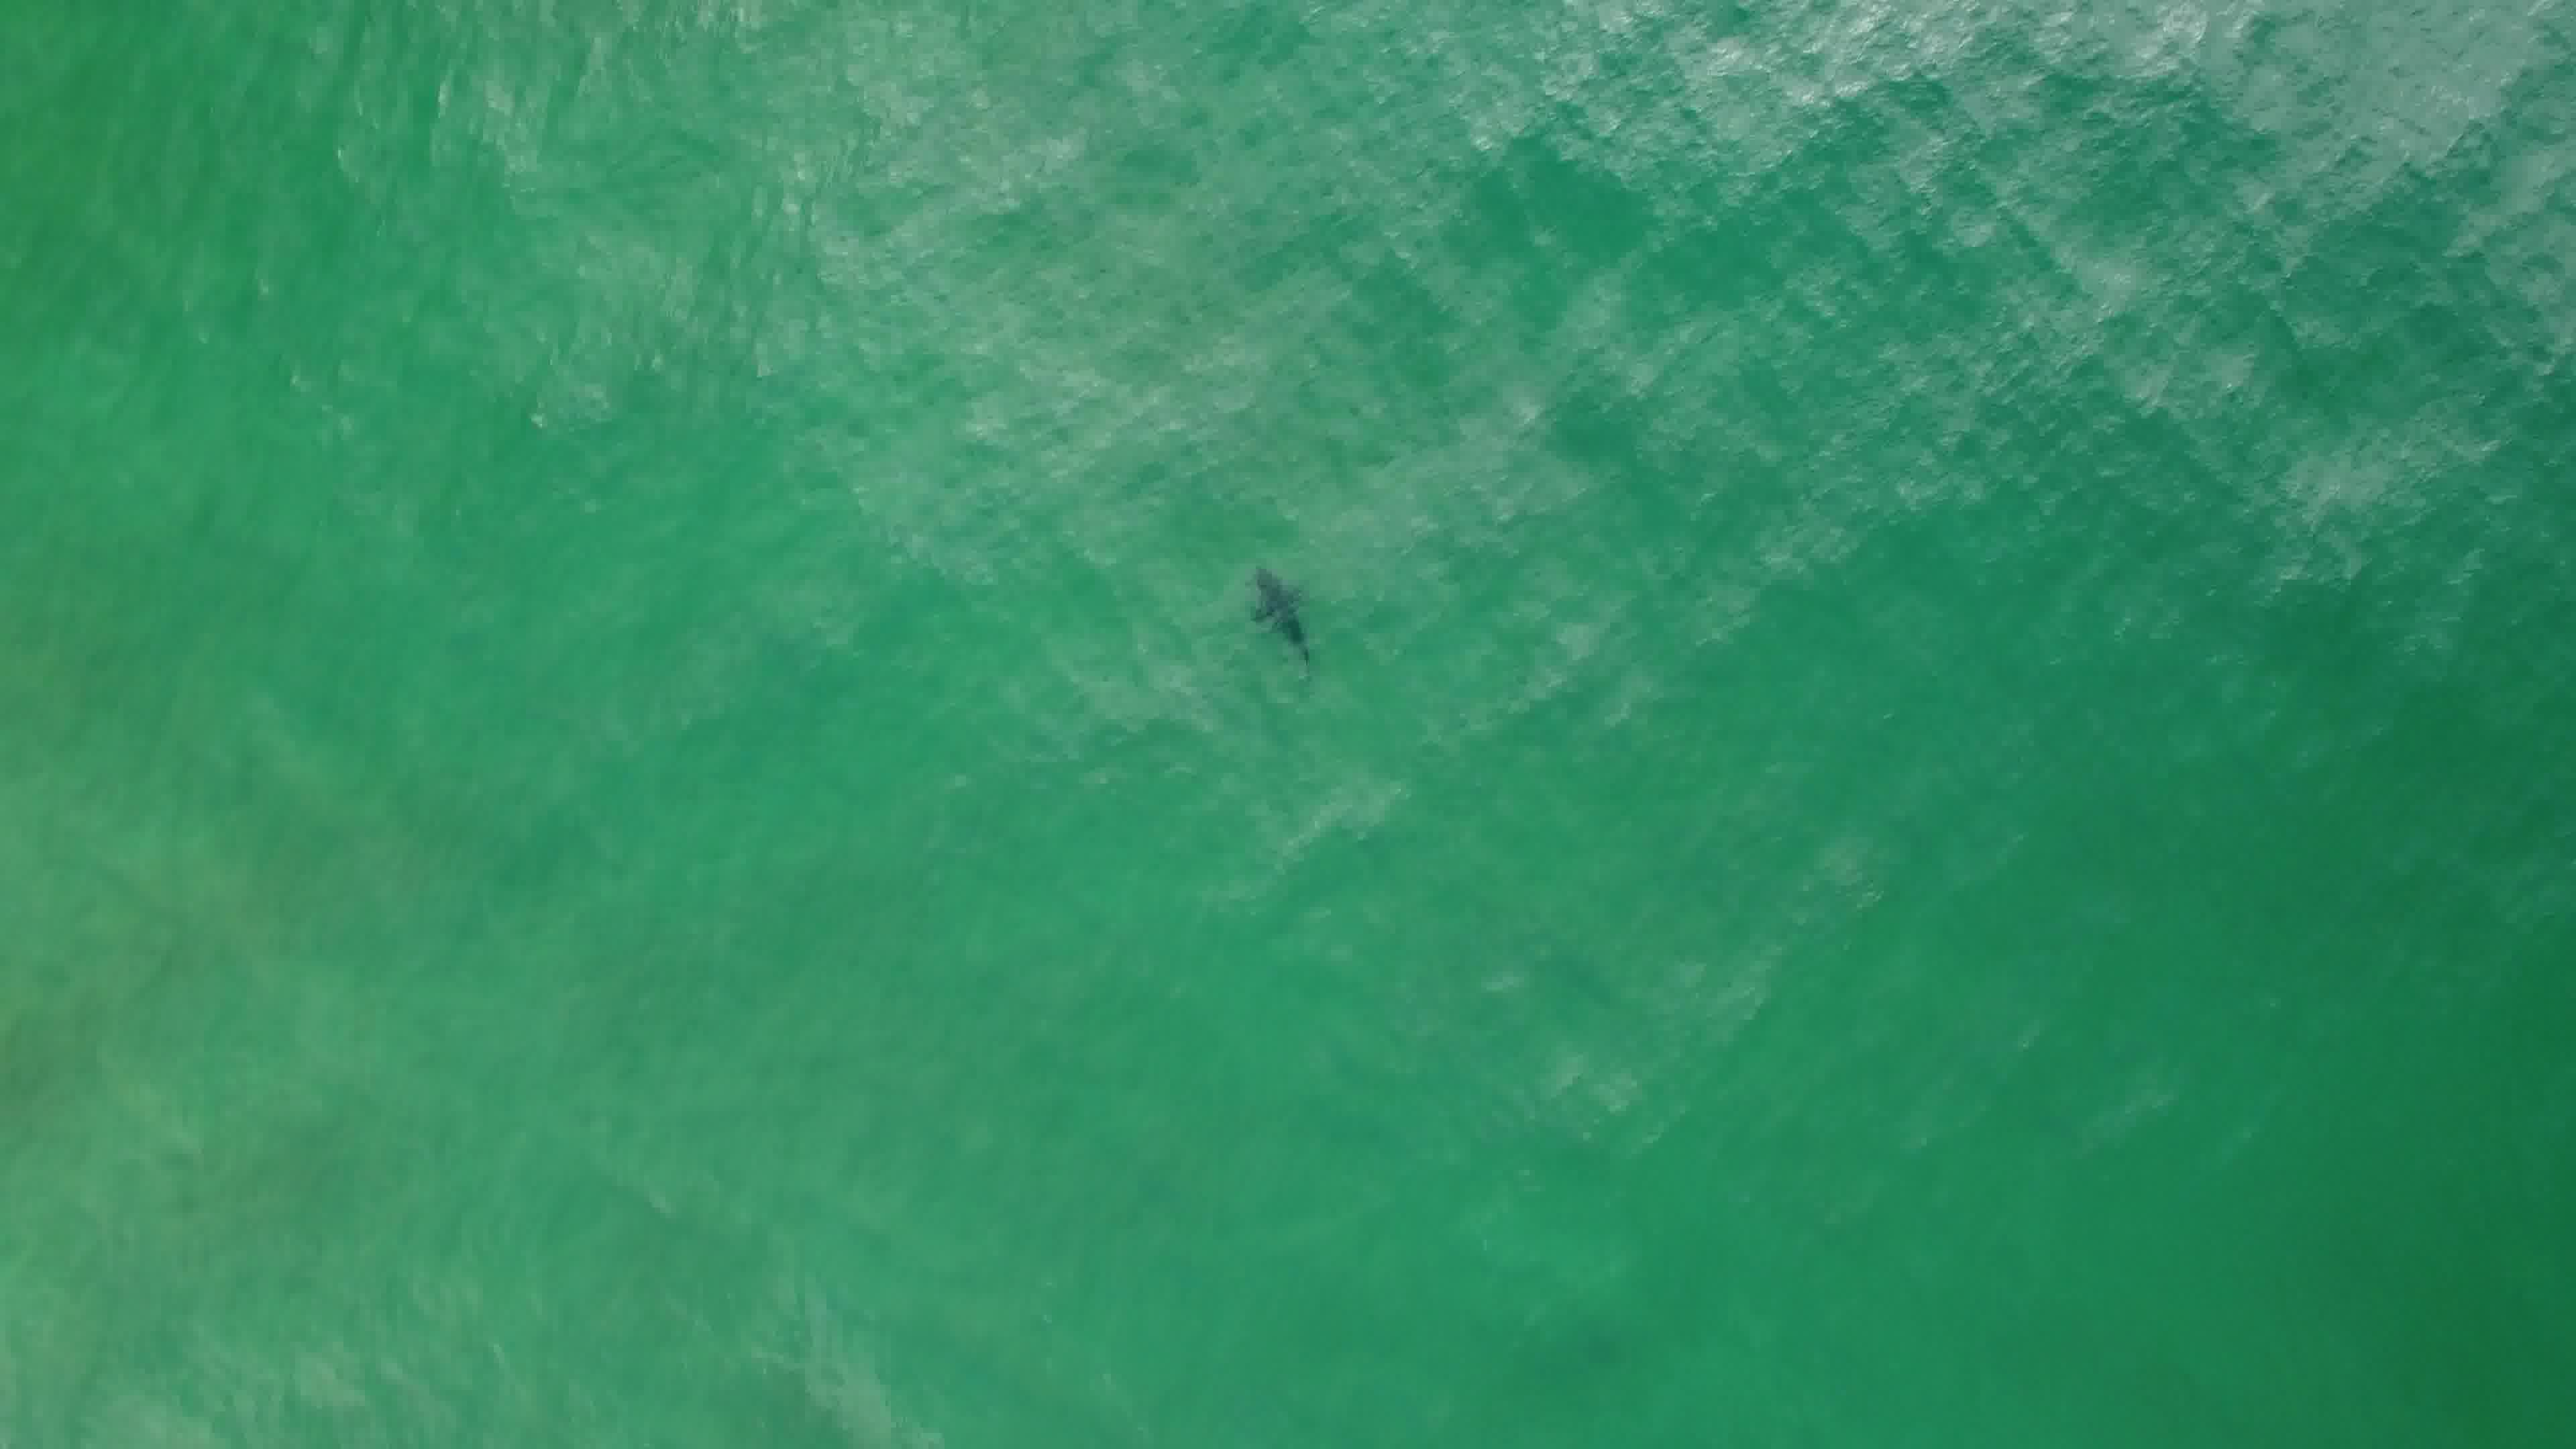shark: (1242, 563, 1323, 678)
